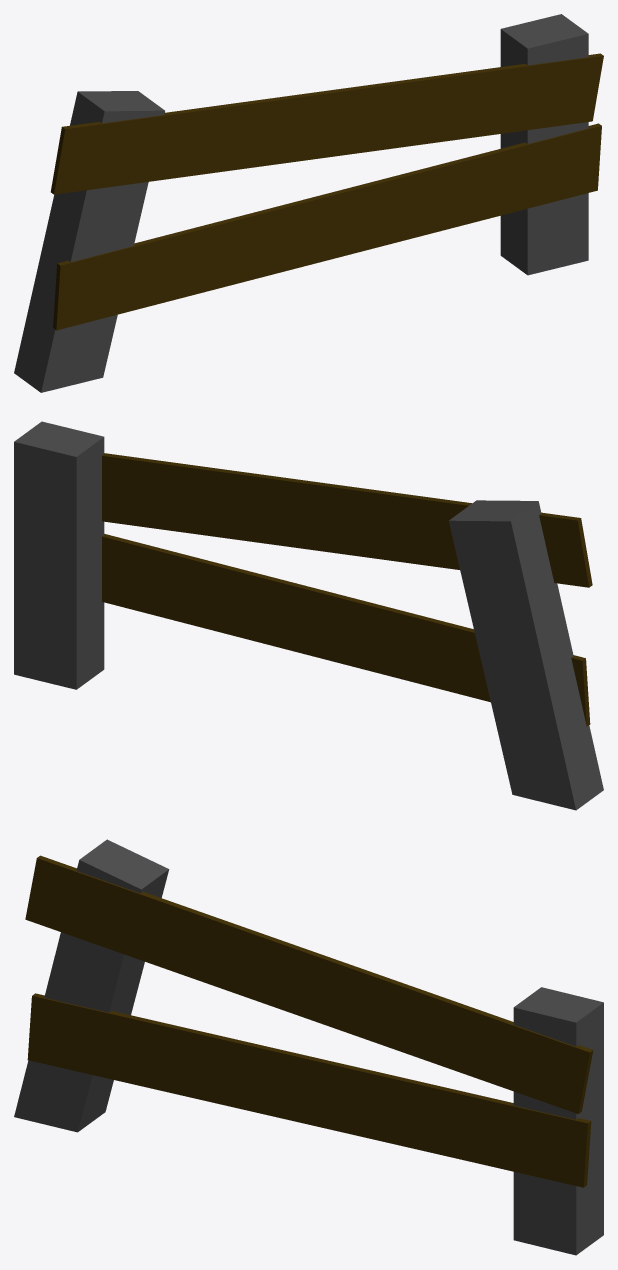
Rendered from Fence1.fbx.
The picture shows the model from 3 angles, top to bottom: view 1: azimuth 30°, elevation 25°; view 2: azimuth 150°, elevation 25°; view 3: azimuth 330°, elevation 25°; orthographic projection. The views are drawn at different scales.
Visible parts, largest first — view 1: Cube.006, Cube.005; view 2: Cube.006, Cube.005; view 3: Cube.006, Cube.005.
Boxes of the visible parts, <box> form: Cube.006: <box>50,53,603,330</box>; Cube.005: <box>14,14,588,392</box>; Cube.006: <box>102,453,592,726</box>; Cube.005: <box>14,421,603,810</box>; Cube.006: <box>25,855,593,1187</box>; Cube.005: <box>14,839,603,1255</box>.
Bounding box in the file's own units: 519 × 236 × 44.84.
